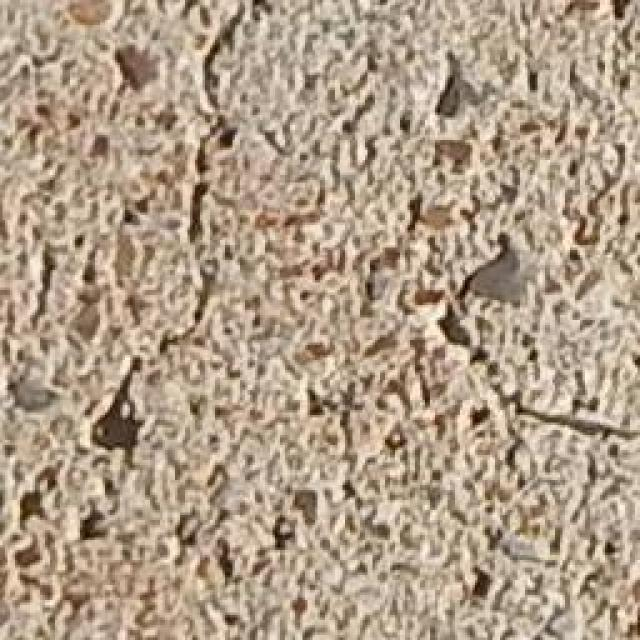concrete-crack: (83, 1, 283, 490), (430, 227, 640, 451)
